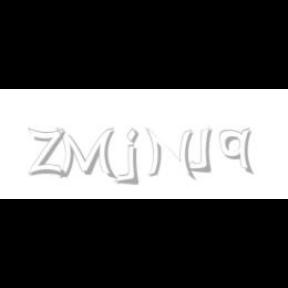J: (186, 128, 212, 172)
M: (56, 128, 114, 180)
N: (144, 128, 194, 180)
Z: (29, 128, 66, 178)
j: (124, 128, 153, 186)
q: (219, 128, 255, 176)
